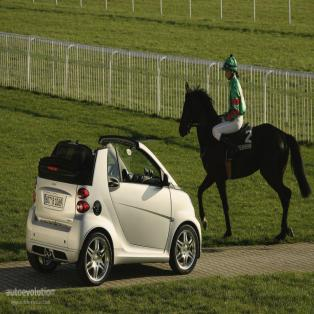Auto: (23, 132, 204, 290)
